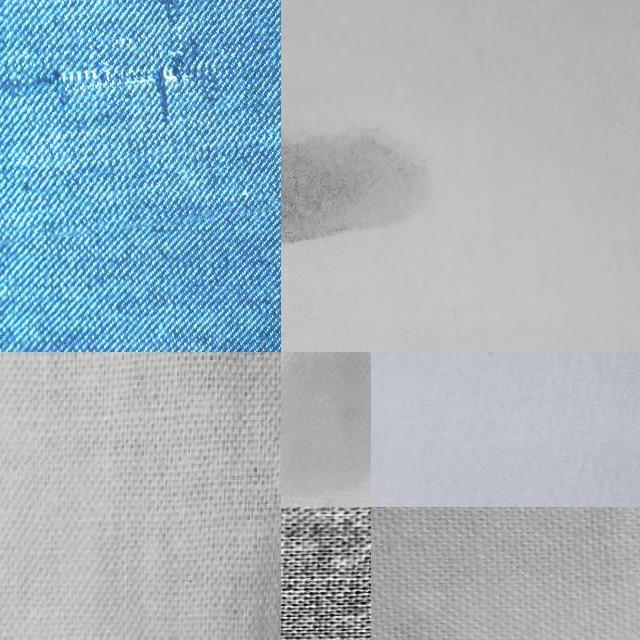Hole: (281, 79, 435, 271), (414, 352, 585, 427), (606, 352, 640, 461)
